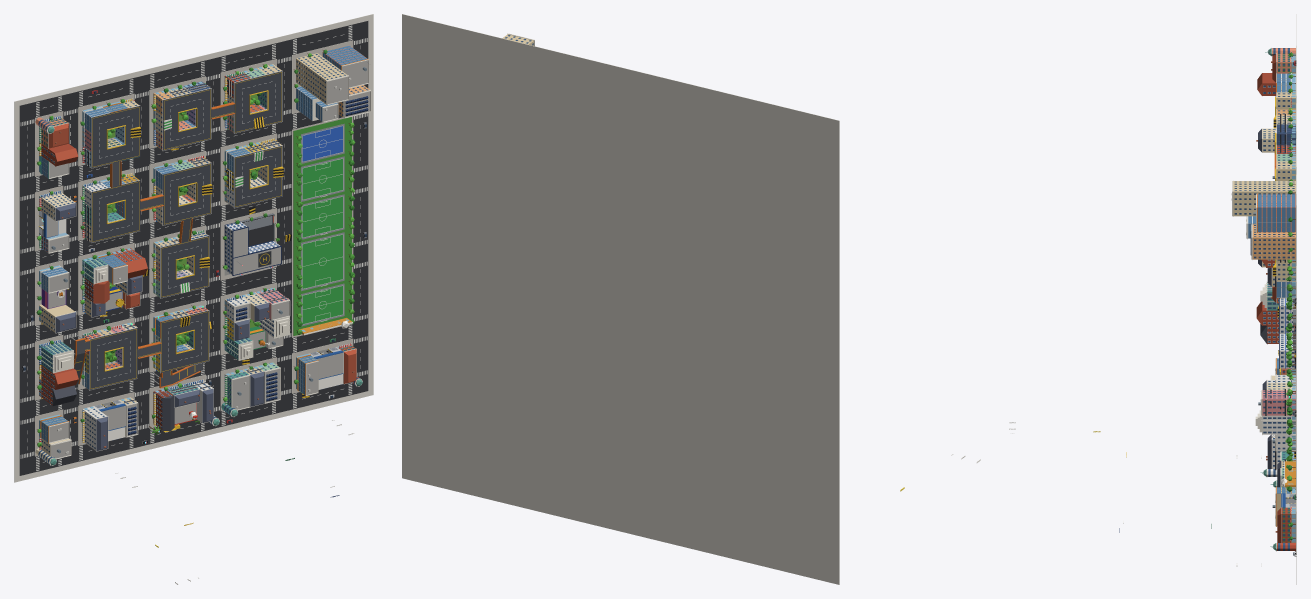
File: CroustyCity_LowPoly (2).fbx
3 views of the same model, side by side, from view 1: azimuth 30°, elevation 25°; view 2: azimuth 150°, elevation 25°; view 3: azimuth 270°, elevation 25° (orthographic). The views are drawn at different scales.
Parts seen in each view (by area): view 1: Ground_Asphalt, Park_Ground, Road_Markings, Police_Station, Block_r1_c1_RooftopTrack, Block_r3_c1_RooftopTrack, Block_r0_c1_RooftopTrack, Block_r3_c2_RooftopTrack, Block_r0_c2_RooftopTrack, Block_r0_c3_RooftopTrack, Block_r1_c2_RooftopTrack, Block_r2_c2_RooftopTrack (+57 smaller); view 2: Ground_Asphalt; view 3: Building_r0_c4_04, Building_r0_c4_02, Building_r0_c4_03, Park_Trees, Police_Station, Building_r4_c4_02, Building_r3_c3_03, Building_r3_c3_07, Building_r0_c0_03, Ground_Asphalt, Building_r4_c2_02, Building_r0_c2_03 (+4 smaller).
Part boxes in pixels (x1=…): Ground_Asphalt: x1=14, y1=14, x2=373, y2=482; Park_Ground: x1=293, y1=117, x2=352, y2=335; Road_Markings: x1=20, y1=25, x2=367, y2=470; Police_Station: x1=224, y1=213, x2=281, y2=275; Block_r1_c1_RooftopTrack: x1=91, y1=180, x2=140, y2=242; Block_r3_c1_RooftopTrack: x1=89, y1=328, x2=137, y2=390; Block_r0_c1_RooftopTrack: x1=91, y1=106, x2=140, y2=167; Block_r3_c2_RooftopTrack: x1=160, y1=310, x2=208, y2=372; Block_r0_c2_RooftopTrack: x1=163, y1=88, x2=211, y2=150; Block_r0_c3_RooftopTrack: x1=234, y1=71, x2=282, y2=133; Block_r1_c2_RooftopTrack: x1=163, y1=163, x2=211, y2=225; Block_r2_c2_RooftopTrack: x1=160, y1=236, x2=208, y2=298; Ground_Asphalt: x1=402, y1=14, x2=839, y2=584; Building_r0_c4_04: x1=1250, y1=193, x2=1295, y2=232; Building_r0_c4_02: x1=1231, y1=180, x2=1295, y2=216; Building_r0_c4_03: x1=1250, y1=224, x2=1295, y2=259; Park_Trees: x1=1285, y1=259, x2=1295, y2=491; Police_Station: x1=1267, y1=298, x2=1295, y2=368; Building_r4_c4_02: x1=1270, y1=506, x2=1295, y2=551; Building_r3_c3_03: x1=1258, y1=389, x2=1295, y2=415; Building_r3_c3_07: x1=1255, y1=410, x2=1295, y2=434; Building_r0_c0_03: x1=1265, y1=48, x2=1295, y2=82; Ground_Asphalt: x1=1296, y1=14, x2=1296, y2=584; Building_r4_c2_02: x1=1260, y1=434, x2=1286, y2=476; Building_r0_c2_03: x1=1276, y1=123, x2=1295, y2=145.
Size of the model in its own units: 282 by 292 by 190.
